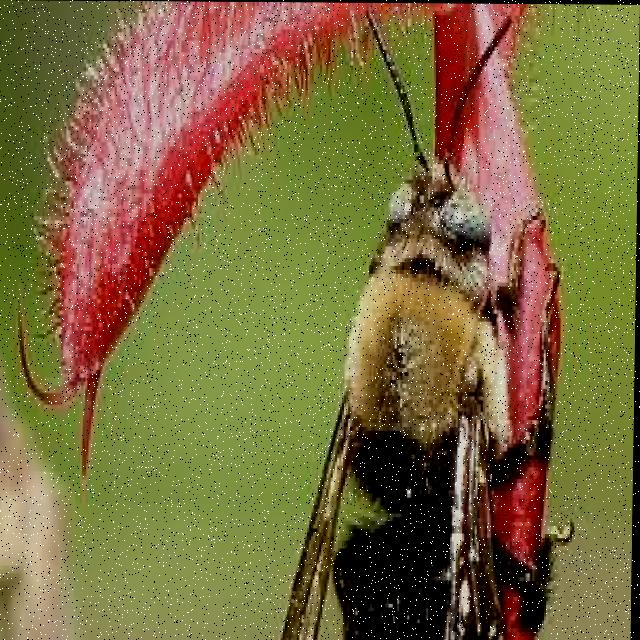Xylocopa: (296, 2, 567, 640)
